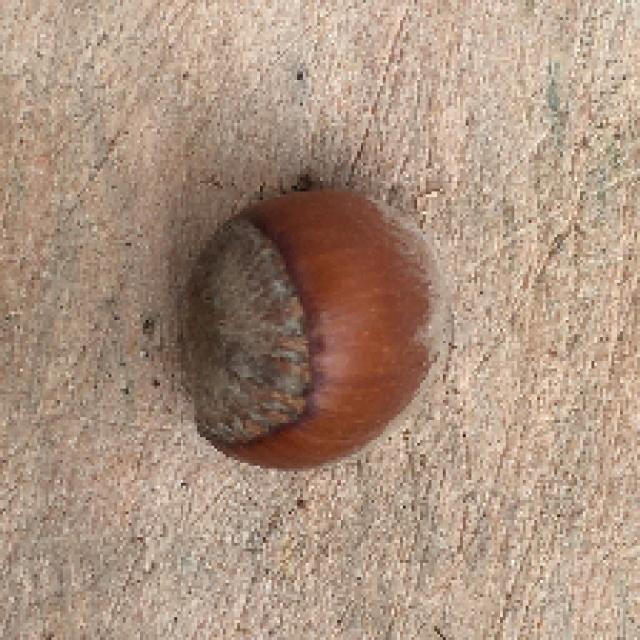QualityHazelnut: (181, 190, 455, 472)
